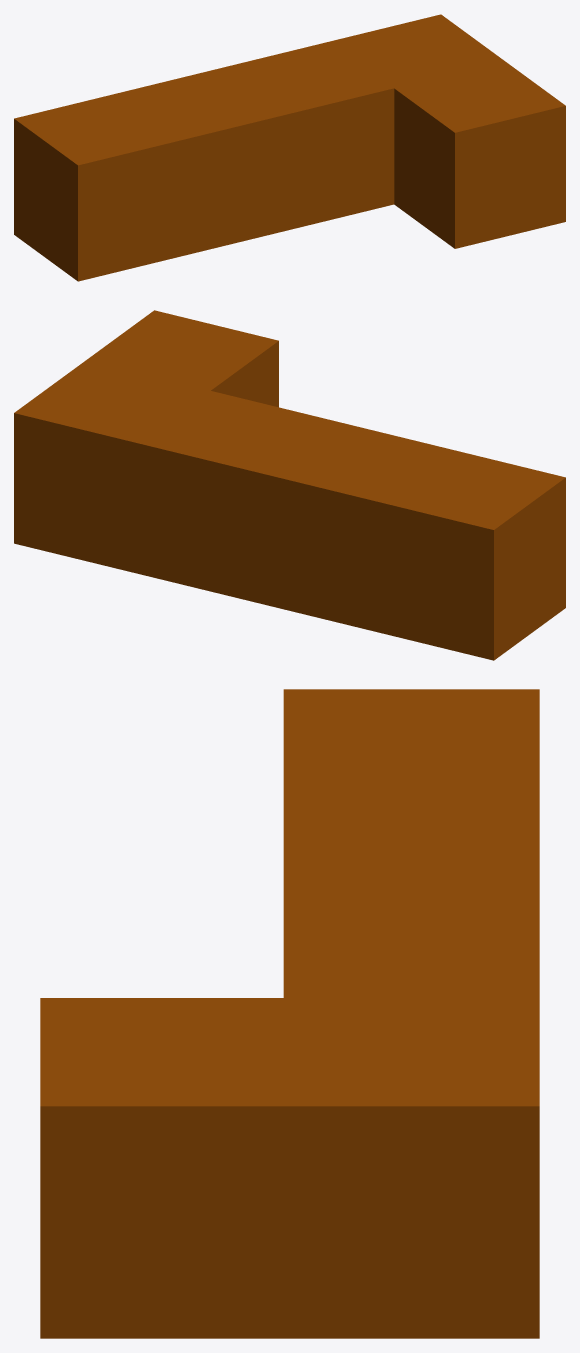
Rendered from Pentomino_Brown.glb.
The picture shows the model from 3 angles, top to bottom: view 1: azimuth 30°, elevation 25°; view 2: azimuth 150°, elevation 25°; view 3: azimuth 270°, elevation 25°; orthographic projection. The views are drawn at different scales.
Parts seen in each view (by area): view 1: Cube; view 2: Cube; view 3: Cube.
Boxes of the visible parts, box(x1,y1,x2,y2) form: Cube: box(14, 14, 565, 281); Cube: box(14, 310, 565, 660); Cube: box(40, 689, 539, 1338).
Size of the model in its own units: 0.608 by 0.158 by 0.308.
